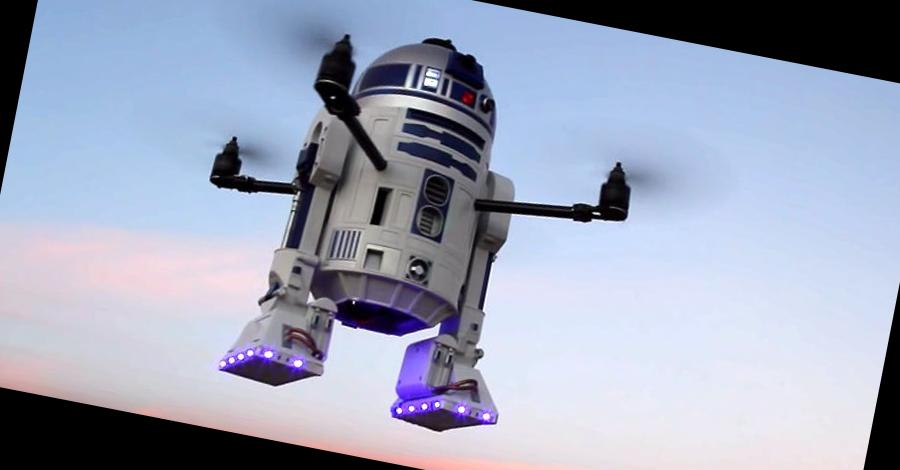drone: (147, 0, 678, 303)
